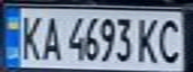3: (115, 15, 136, 63)
4: (63, 12, 84, 62)
6: (81, 14, 100, 62)
9: (97, 15, 118, 63)
A: (36, 12, 63, 62)
C: (154, 15, 187, 64)
K: (15, 11, 45, 62), (133, 15, 163, 64)
